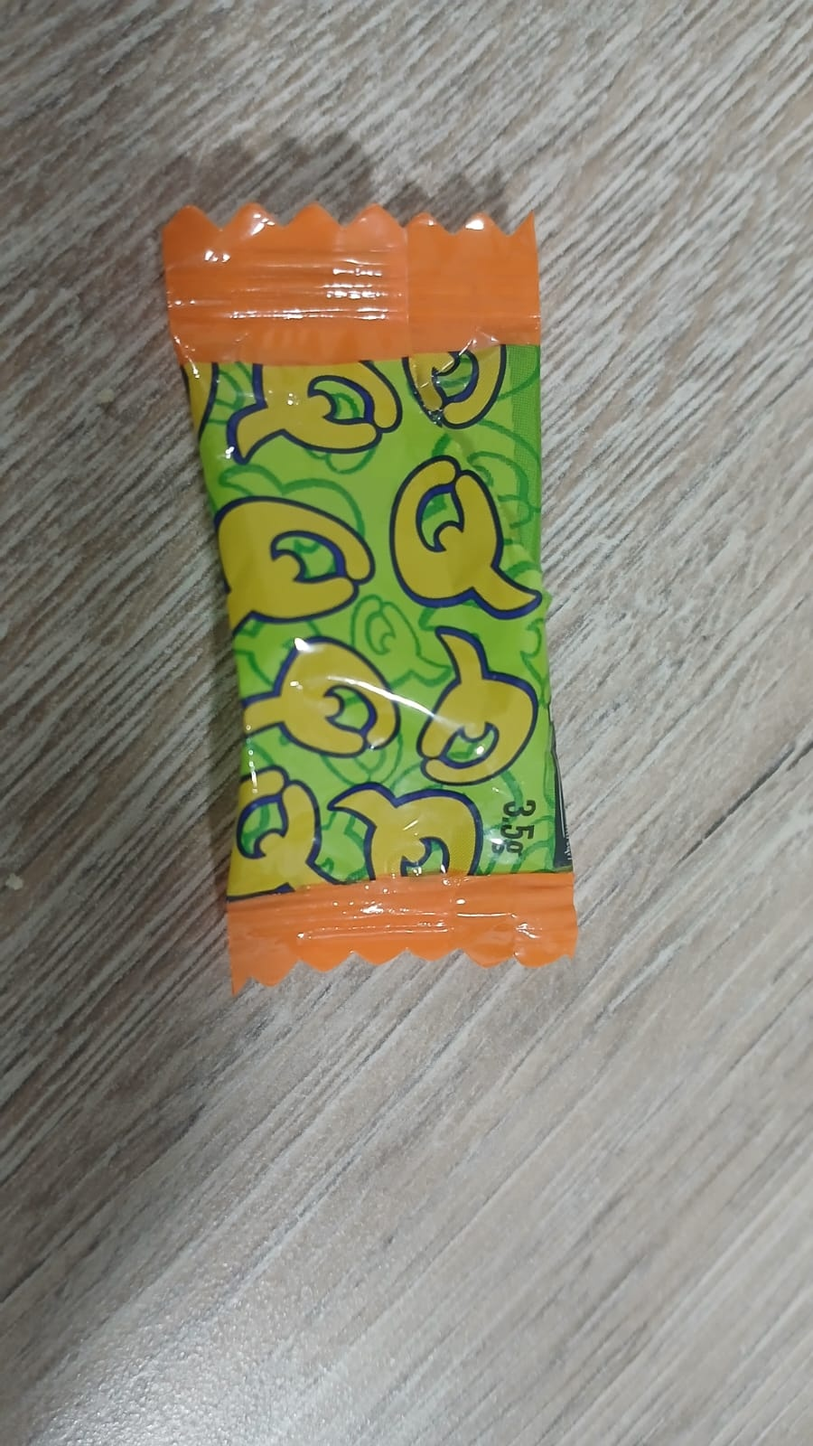Ordinario: (157, 204, 577, 992)
